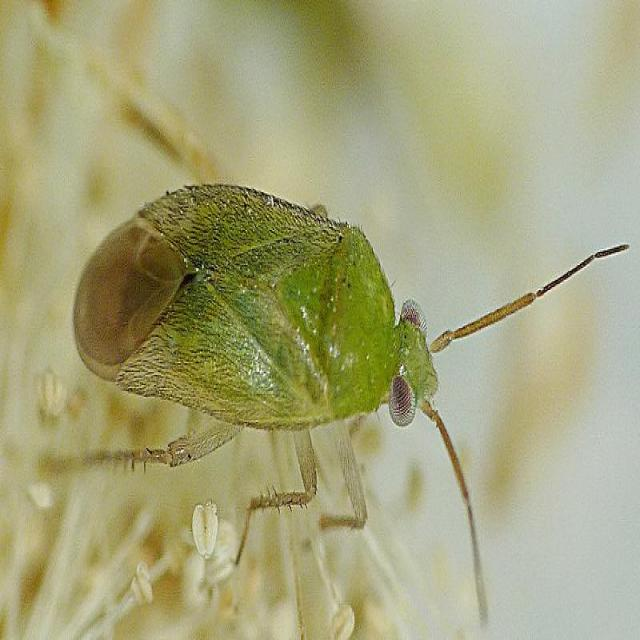Miridae-Adult-: (30, 41, 619, 614)
